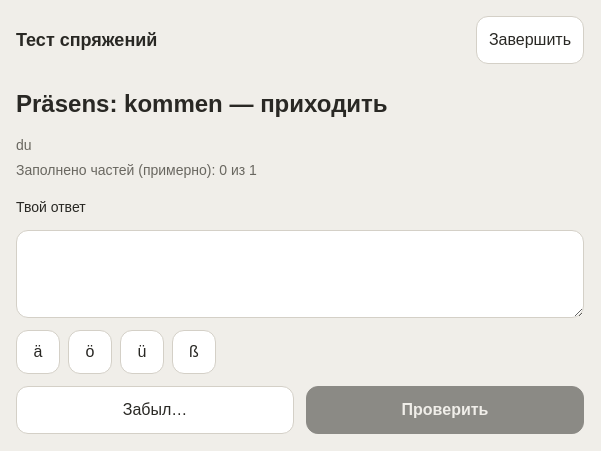
Test: useConjugationHost (StrictMode) › useConjugationHost: start from Today › H5 R5: a rejected SESSION_BUSY of an answer is no refusal of a start
Type "kommt" into the text box at (300, 274), box top-left (16, 230), bottom-right (584, 318)
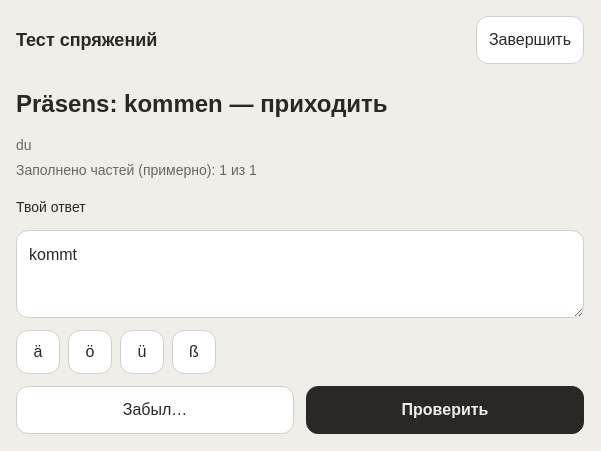
Click the button "Проверить" at (445, 410), box top-left (306, 386), bottom-right (584, 434)
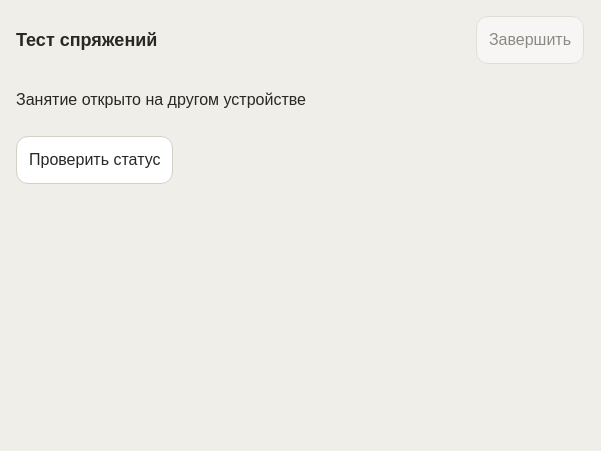
Now the text "Занятие открыто на другом устройстве" is shown, box top-left (16, 91), bottom-right (306, 108)
